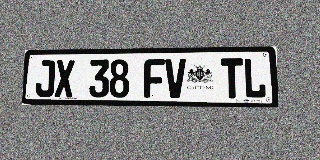3: (89, 59, 109, 98)
8: (109, 59, 130, 98)
F: (144, 59, 164, 98)
J: (35, 60, 55, 97)
L: (243, 58, 266, 99)
T: (221, 58, 243, 98)
V: (165, 59, 186, 98)
X: (54, 60, 75, 97)
